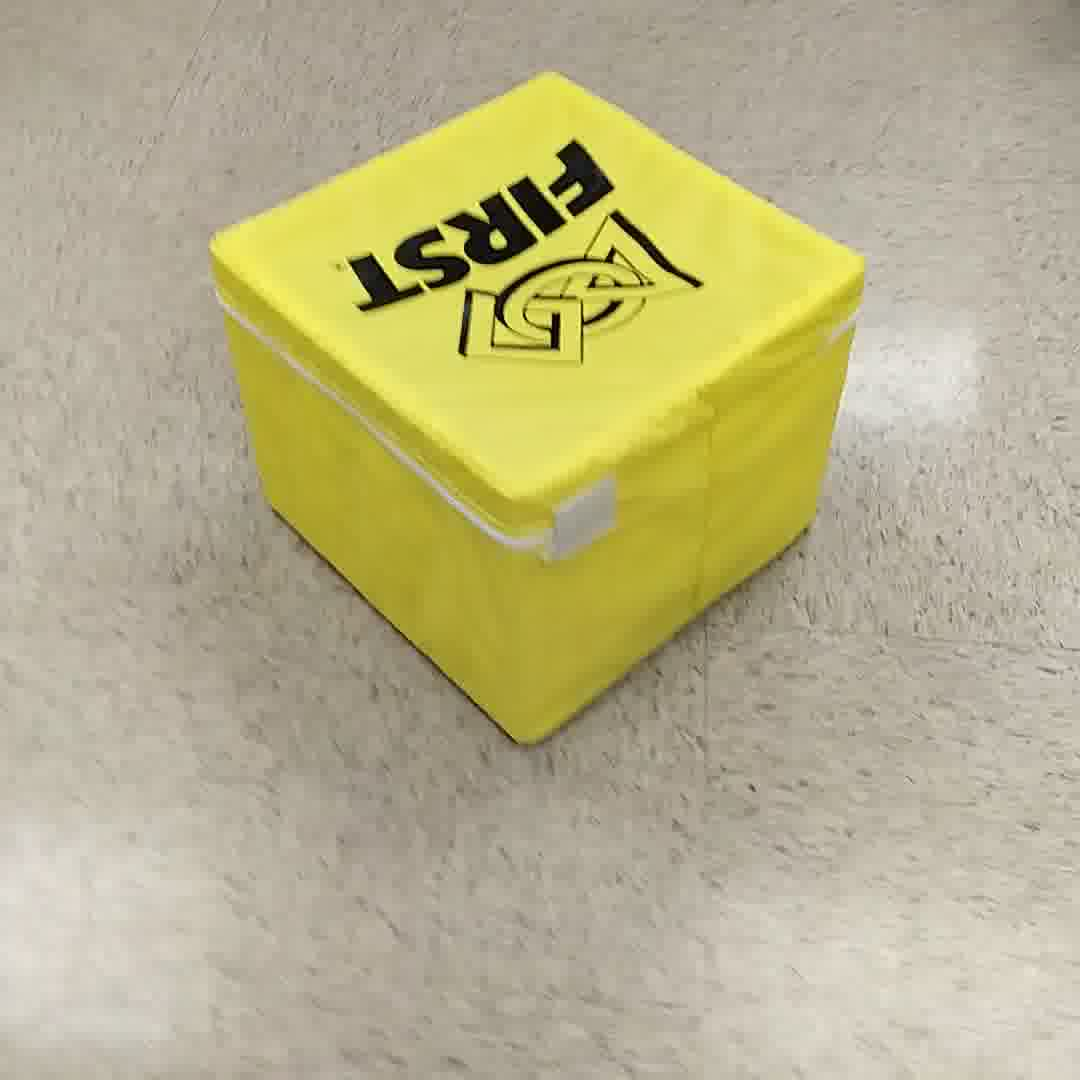box: (204, 72, 871, 751)
